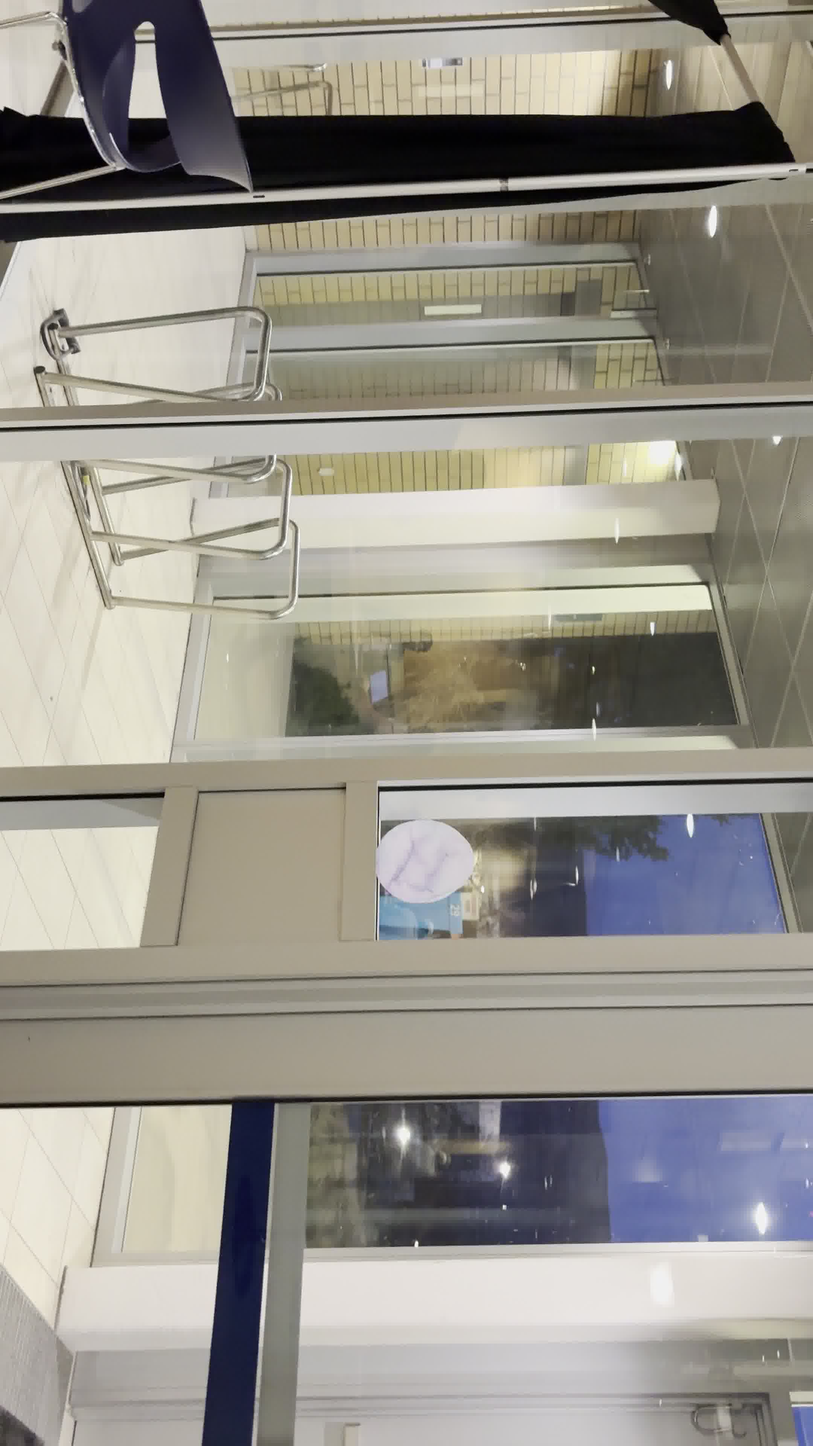Target: (375, 818, 477, 905)
